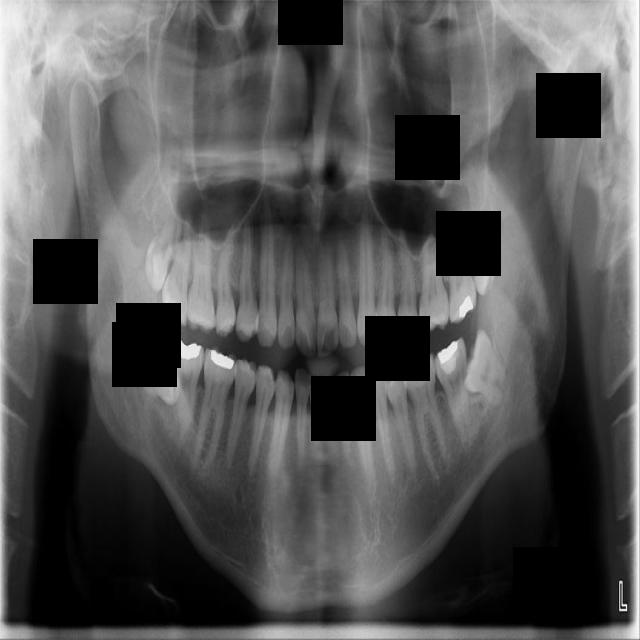3M ESPE Implant: (139, 204, 179, 294)
52: (437, 275, 491, 329), (425, 335, 479, 387), (198, 343, 241, 390), (401, 351, 439, 404), (170, 339, 205, 375)
73: (620, 618, 628, 626)
BioHorizons Implant: (446, 192, 478, 325)
BioLife Implant: (454, 198, 505, 298)
Biomet 3i Implant: (444, 326, 520, 417)
Blue Sky Bio Implant: (431, 337, 477, 451)
Caries: (160, 200, 195, 327)
Implant: (158, 337, 208, 444)
Keystone Dental Implant: (136, 335, 181, 406)
